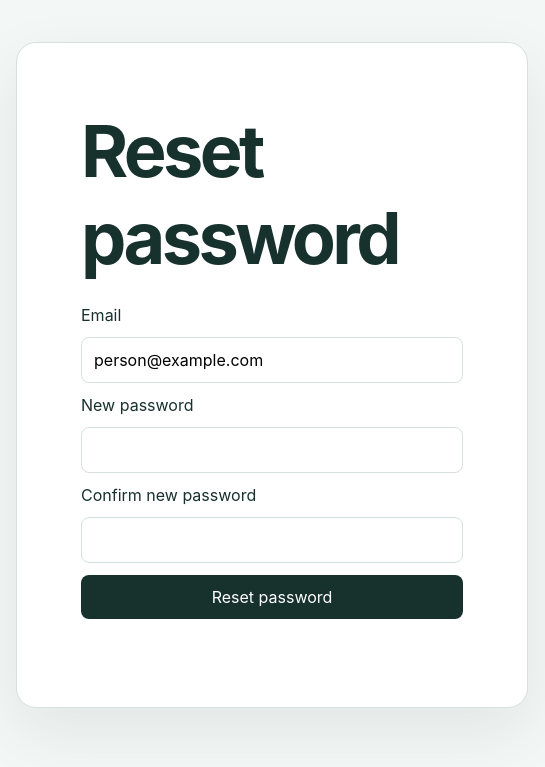
Scenario: Identity pages › shows a safe reset token or validation error
Type "replacement-password" into the password field labelled "New password" at (272,450), box [81,427,463,473]
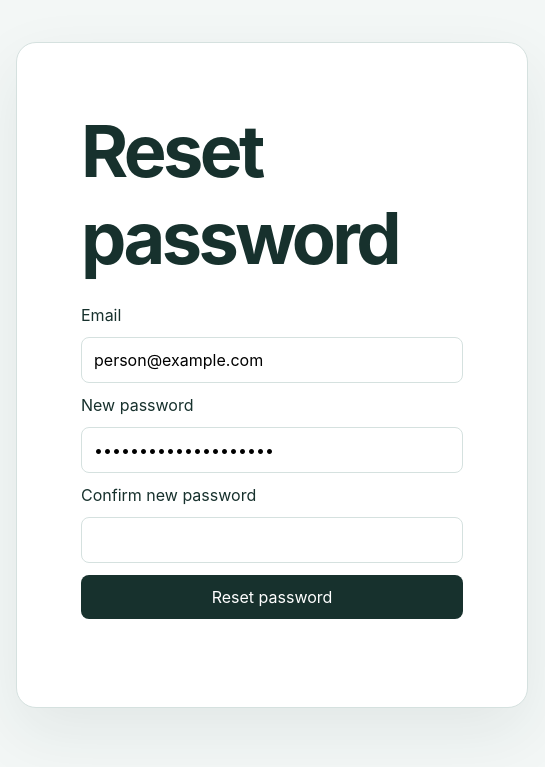
Type "replacement-password" into the password field labelled "Confirm new password" at (272,540), box [81,517,463,563]
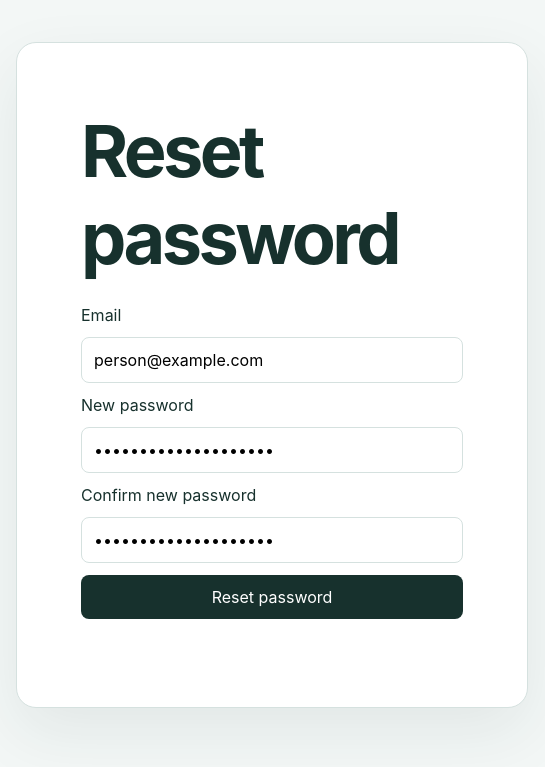
Click the button "Reset password" at (272,597), box [81,575,463,619]
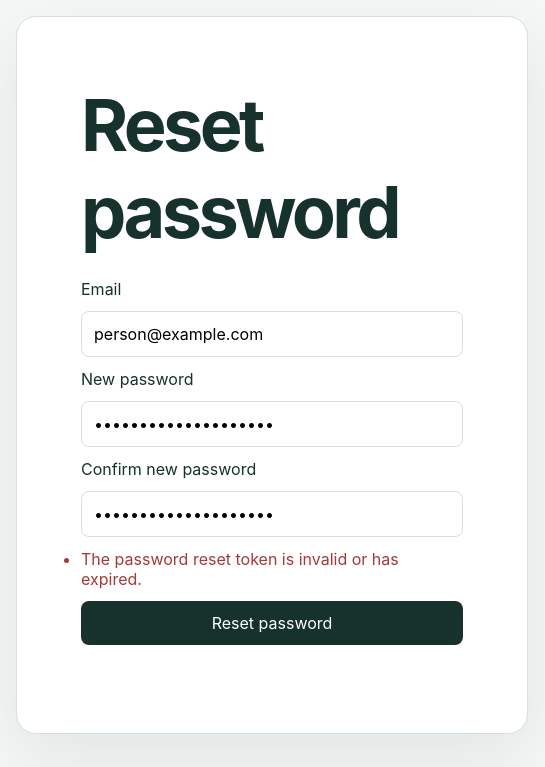
Result: the number of list items "The password reset token is invalid or has expired." is 1 at [81,549,399,589]
